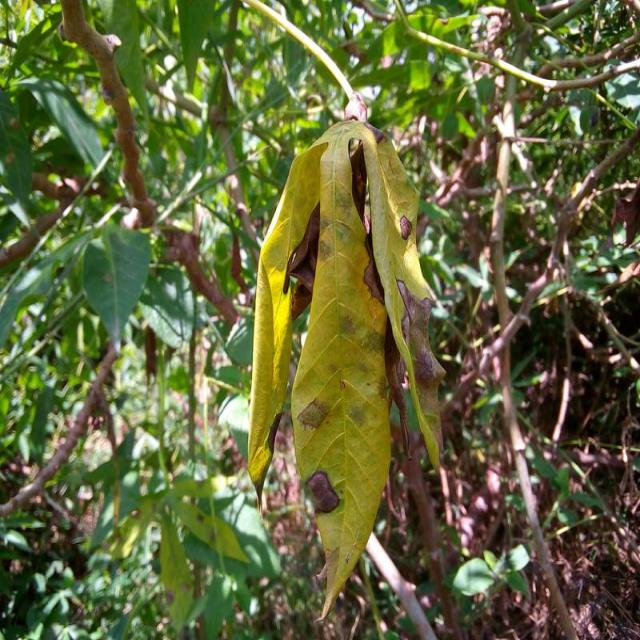cassava leaf: (245, 115, 446, 621), (80, 222, 150, 353)
